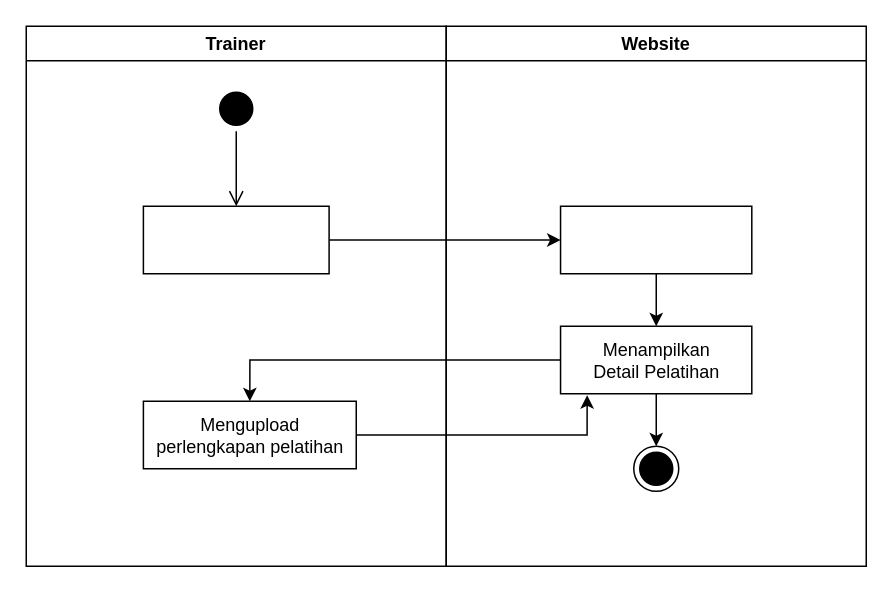
This 893x593 diagram has some shape labels left out. Each missing label, with the centre of its shape:
"Akses halaman Daftar Pelatihan" goes at point 235,239.
"Menampilkan halaman Daftar pelatihan" goes at point 655,239.
